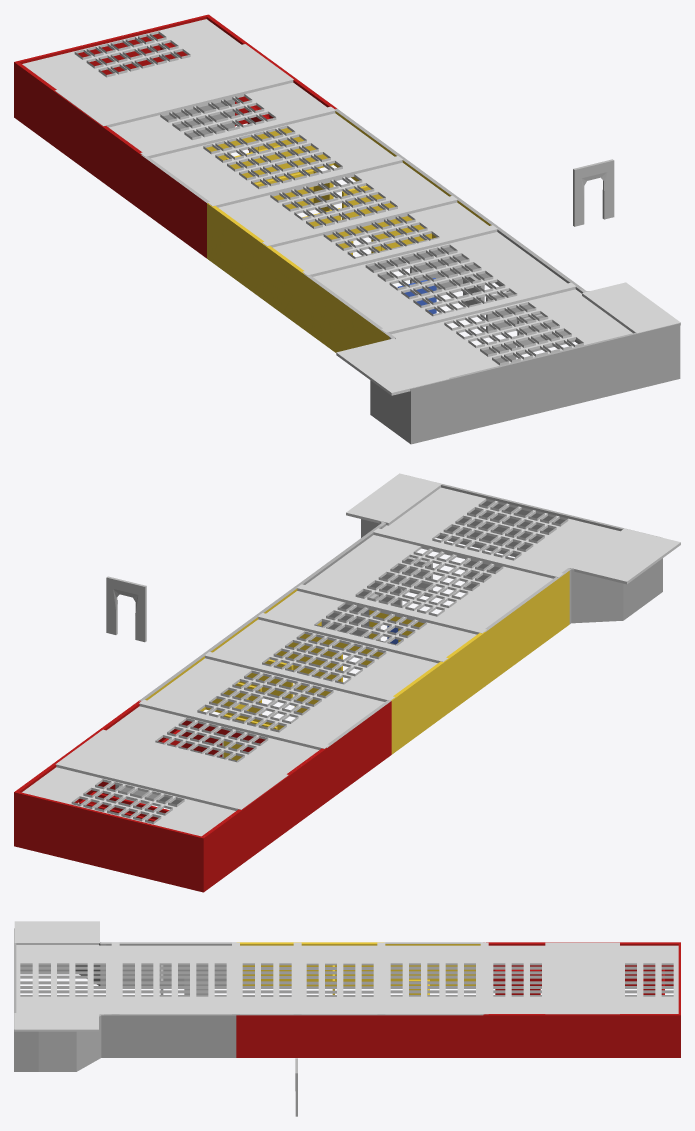
File: museev14.obj
The picture shows the model from 3 angles, top to bottom: view 1: azimuth 30°, elevation 25°; view 2: azimuth 150°, elevation 25°; view 3: azimuth 270°, elevation 25°; orthographic projection. The views are drawn at different scales.
Parts seen in each view (by area): view 1: Plane.009_Plane.013, Wall.042_Wall.045, Wall.028_Wall.001, Wall.030_Wall.014, Wall.036_Wall.033, Wall.004_Wall.009, Wall.024_Wall.037, Wall.014_Wall.027, Wall.044_Wall.047, Plane.003_Plane.001, Wall.027_Wall, Wall.003_Wall.006 (+2 smaller); view 2: Plane.009_Plane.013, Wall.037_Wall.041, Wall.004_Wall.009, Wall.036_Wall.033, Wall.044_Wall.047, Wall.028_Wall.001, Wall.030_Wall.014, Wall.024_Wall.037, Wall.014_Wall.027, Wall.042_Wall.045, Plane.003_Plane.001, Wall.027_Wall (+1 smaller); view 3: Plane.009_Plane.013, Wall.027_Wall, Wall.003_Wall.006, Wall.018_Wall.031, Wall.033_Wall.021, Wall_Wall.030, Wall.041_Wall.017, Wall.004_Wall.009, Wall.028_Wall.001, Wall.043_Wall.046, Wall.024_Wall.037, Wall.014_Wall.027 (+4 smaller).
Boxes of the visible parts, x1,y1,x2,y2 form: Plane.009_Plane.013: (22, 19, 680, 395); Wall.042_Wall.045: (413, 323, 678, 443); Wall.028_Wall.001: (141, 144, 221, 258); Wall.030_Wall.014: (76, 107, 142, 211); Wall.036_Wall.033: (14, 61, 78, 163); Wall.004_Wall.009: (303, 263, 391, 352); Wall.024_Wall.037: (207, 203, 263, 299); Wall.014_Wall.027: (263, 244, 304, 328); Wall.044_Wall.047: (370, 337, 413, 444); Plane.003_Plane.001: (573, 159, 614, 226); Wall.027_Wall: (258, 108, 433, 182); Wall.003_Wall.006: (419, 226, 583, 343); Plane.009_Plane.013: (22, 473, 680, 836); Wall.037_Wall.041: (17, 792, 201, 891); Wall.004_Wall.009: (408, 570, 569, 685); Wall.036_Wall.033: (200, 792, 266, 892); Wall.044_Wall.047: (569, 537, 662, 623); Wall.028_Wall.001: (251, 700, 391, 800); Wall.030_Wall.014: (264, 747, 328, 846); Wall.024_Wall.037: (391, 660, 446, 754); Wall.014_Wall.027: (446, 632, 485, 714); Wall.042_Wall.045: (436, 484, 657, 557); Plane.003_Plane.001: (106, 576, 146, 642); Wall.027_Wall: (139, 631, 236, 754); Plane.009_Plane.013: (14, 921, 678, 1031); Wall.027_Wall: (335, 1014, 485, 1057); Wall.003_Wall.006: (104, 1014, 236, 1057); Wall.018_Wall.031: (236, 1014, 335, 1057); Wall.033_Wall.021: (483, 1014, 584, 1057); Wall_Wall.030: (584, 1014, 680, 1057); Wall.041_Wall.017: (38, 1014, 101, 1071); Wall.004_Wall.009: (105, 942, 236, 985); Wall.028_Wall.001: (385, 942, 485, 985); Wall.043_Wall.046: (14, 1028, 38, 1071); Wall.024_Wall.037: (298, 942, 384, 986); Wall.014_Wall.027: (237, 942, 297, 985).
Bounding box in the file's own units: 102 × 13.68 × 189.
